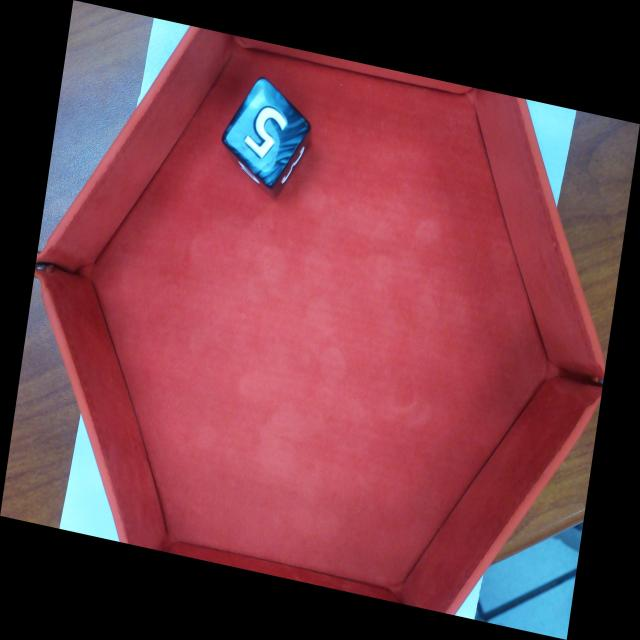dice: (222, 78, 310, 187)
